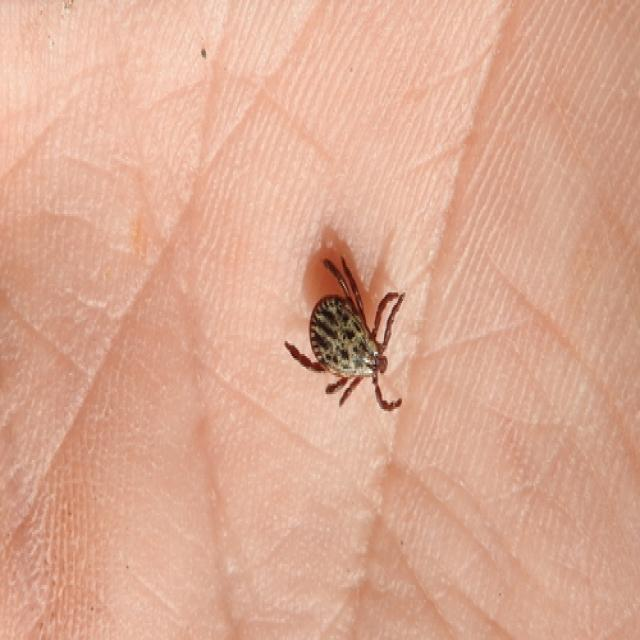Dermacentor Reticulatus-M: (285, 254, 406, 411)
